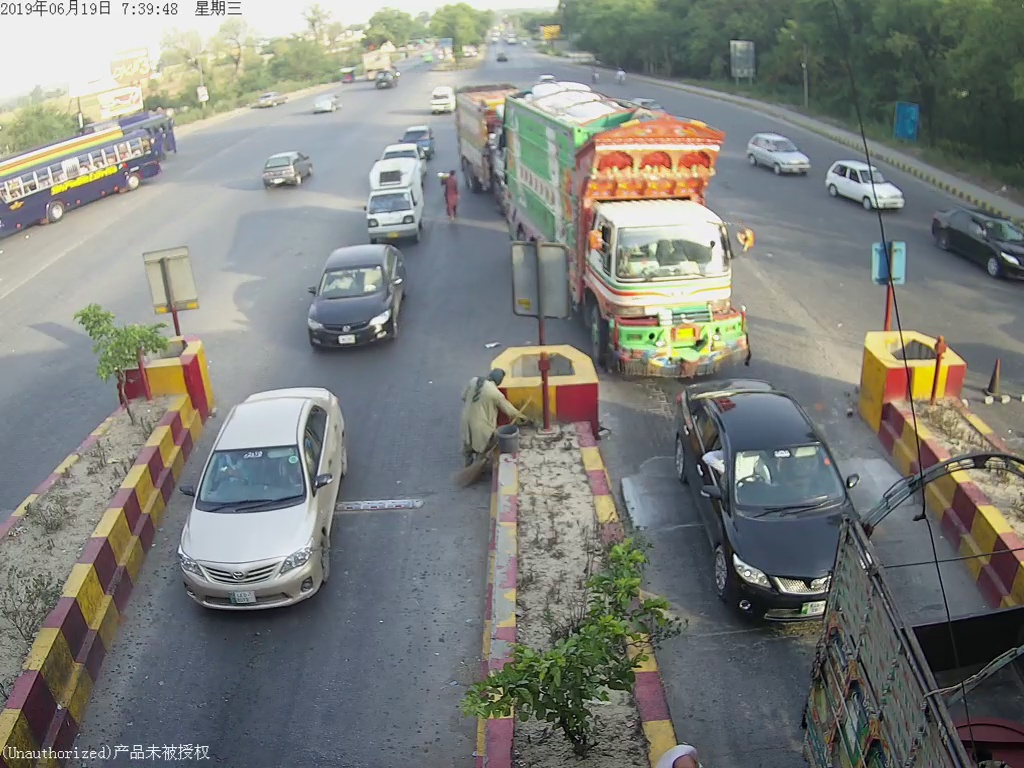Cat-1: (177, 384, 350, 617), (670, 381, 824, 627), (302, 247, 411, 352), (361, 159, 429, 239)
Cat-4: (506, 80, 763, 379)
